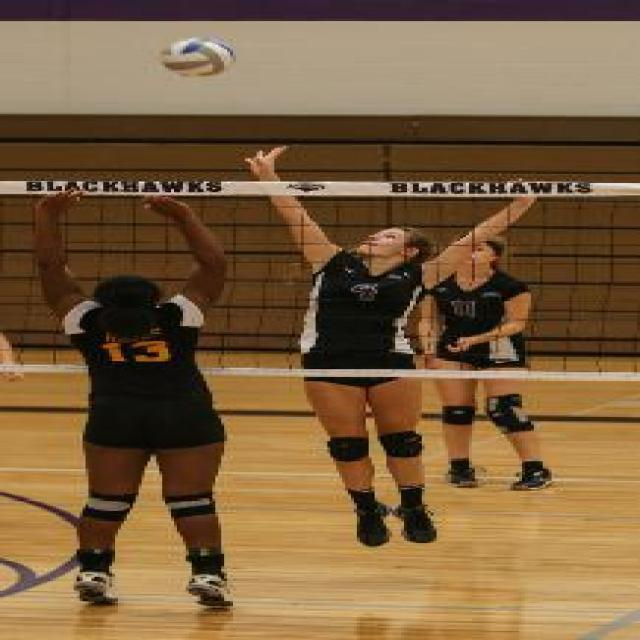volleyball: (158, 36, 236, 78)
